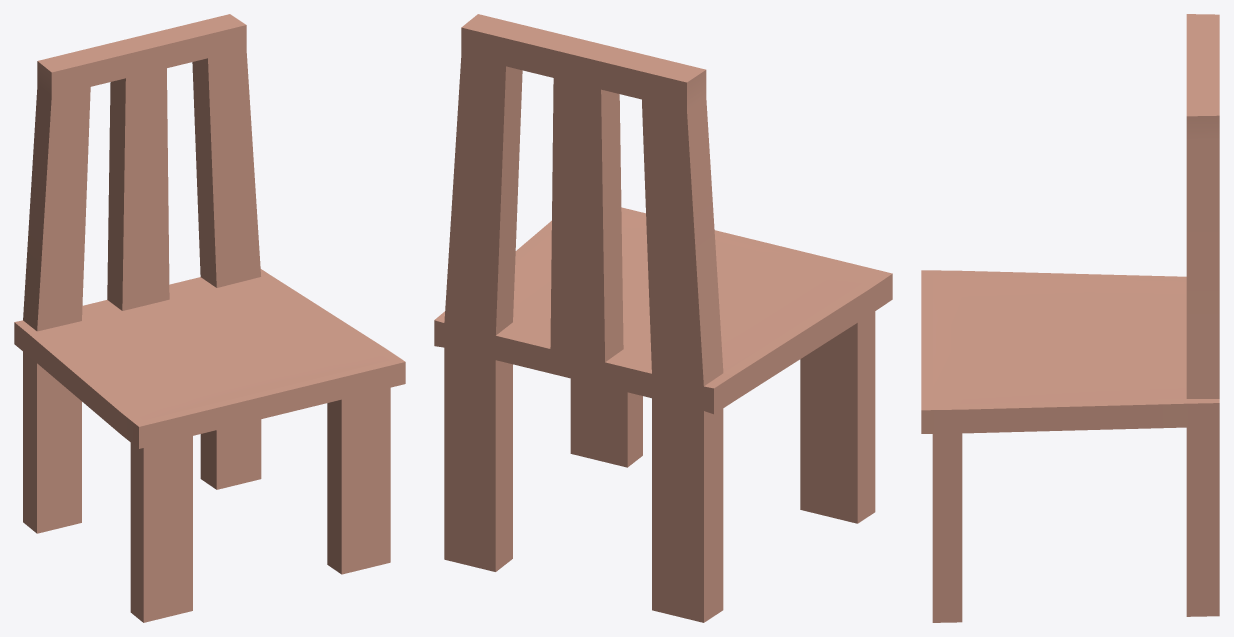
The model's file is Silla_001.fbx.
3 renders of one model, left to right at view 1: azimuth 30°, elevation 25°; view 2: azimuth 150°, elevation 25°; view 3: azimuth 270°, elevation 25°, orthographic. The views are drawn at different scales.
Parts seen in each view (by area): view 1: Silla_001; view 2: Silla_001; view 3: Silla_001.
Boxes of the visible parts, left/top/right/bottom form: Silla_001: left=14, top=14, right=405, bottom=622; Silla_001: left=434, top=14, right=892, bottom=622; Silla_001: left=921, top=14, right=1219, bottom=622.
Bounding box in the file's own units: 0.0106 × 0.0175 × 0.00958.
